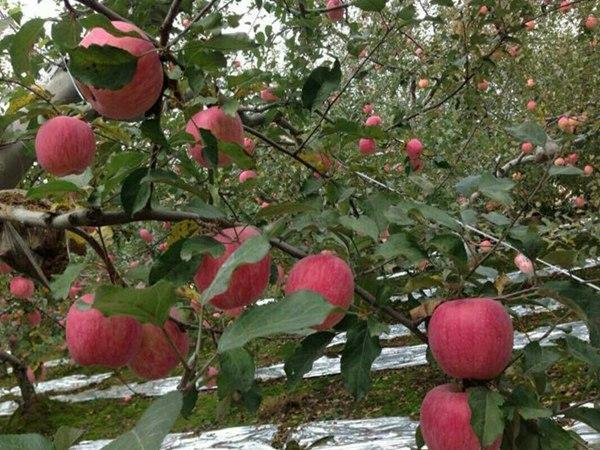apple: (63, 19, 164, 119), (427, 295, 512, 382), (191, 224, 268, 305), (419, 381, 505, 450), (284, 256, 355, 327), (69, 296, 140, 367), (32, 115, 95, 180), (184, 105, 245, 170), (126, 318, 188, 380)
